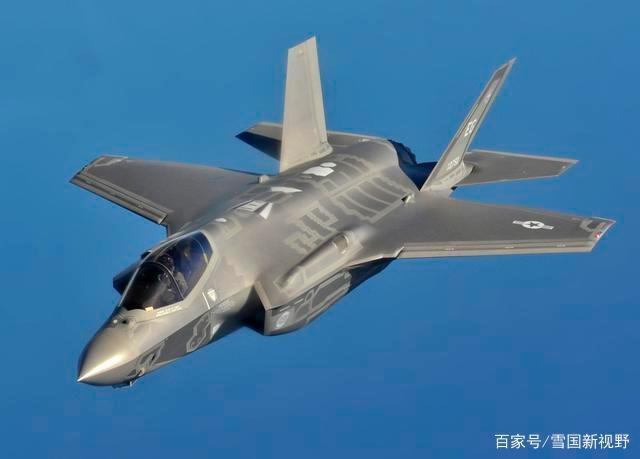airplane: (53, 36, 612, 393)
